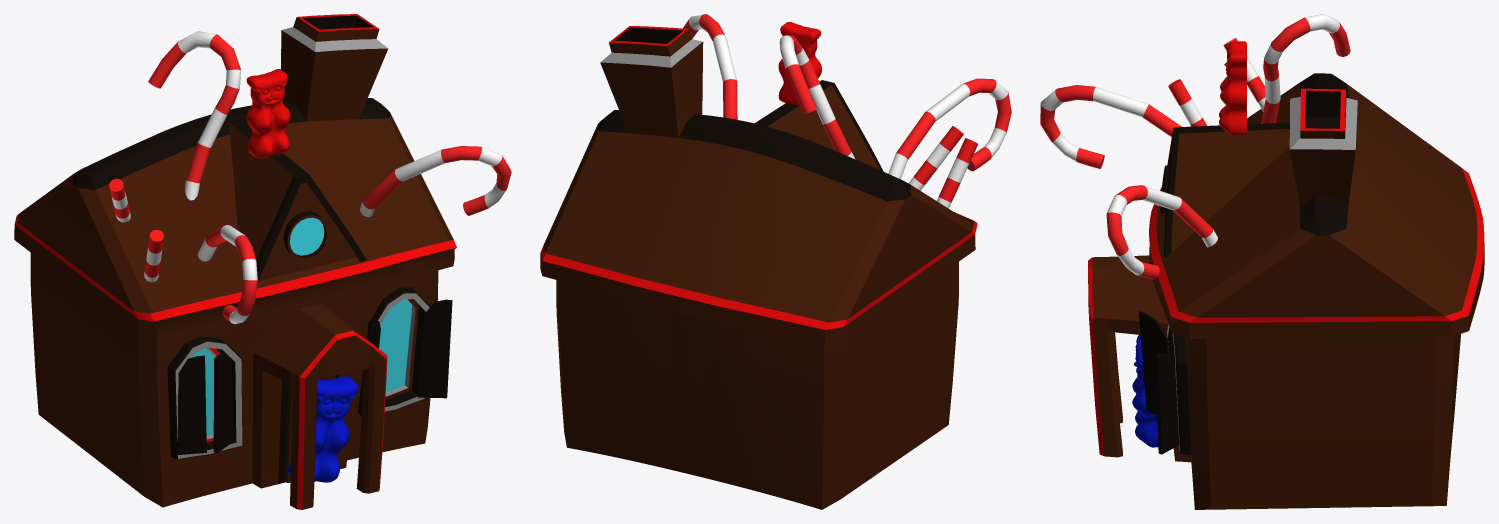
The model's file is Ginger bread House 1.FBX.
3 views of the same model, side by side, from view 1: azimuth 30°, elevation 25°; view 2: azimuth 150°, elevation 25°; view 3: azimuth 270°, elevation 25° (orthographic). The views are drawn at different scales.
Visible parts, largest first — view 1: Box001, Box006, Candy Cane020, Candy Cane, Gummy Bear011, Gummy Bear001, Box002, Box005, Candy Cane004, Box004, Candy Cane003, Candy Cane2; view 2: Box001, Candy Cane004, Box006, Candy Cane020, Candy Cane, Gummy Bear001, Candy Cane2, Candy Cane003; view 3: Box001, Box006, Candy Cane004, Candy Cane, Candy Cane020, Gummy Bear001, Box002, Box003, Gummy Bear011, Candy Cane003, Candy Cane2.
Boxes of the visible parts, box(x1,y1,x2,y2) form: Box001: box(14, 14, 456, 509); Box006: box(228, 118, 366, 281); Candy Cane020: box(148, 31, 240, 200); Candy Cane: box(360, 146, 511, 217); Gummy Bear011: box(287, 376, 358, 482); Gummy Bear001: box(246, 69, 290, 158); Box002: box(418, 299, 452, 398); Box005: box(177, 355, 206, 454); Candy Cane004: box(197, 225, 257, 324); Box004: box(213, 352, 233, 453); Candy Cane003: box(144, 229, 163, 282); Candy Cane2: box(109, 178, 130, 222); Box001: box(540, 26, 977, 509); Candy Cane004: box(888, 78, 1011, 179); Box006: box(754, 80, 883, 171); Candy Cane020: box(779, 35, 855, 159); Candy Cane: box(683, 14, 737, 119); Gummy Bear001: box(778, 22, 821, 106); Candy Cane2: box(908, 126, 963, 190); Candy Cane003: box(937, 138, 977, 208); Box001: box(1088, 73, 1484, 509); Box006: box(1159, 122, 1289, 257); Candy Cane004: box(1040, 85, 1181, 168); Candy Cane: box(1106, 185, 1217, 279); Candy Cane020: box(1261, 14, 1350, 123); Gummy Bear001: box(1219, 41, 1246, 134); Box002: box(1155, 353, 1179, 454); Box003: box(1138, 311, 1168, 414); Gummy Bear011: box(1132, 335, 1158, 447); Candy Cane003: box(1168, 79, 1207, 126); Candy Cane2: box(1223, 38, 1265, 111).
Size of the model in its own units: 155 by 175 by 170.
